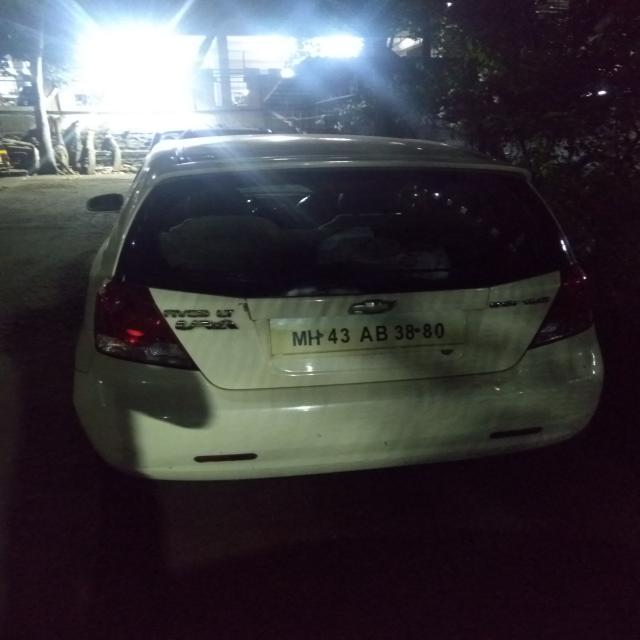Number-Plate: (284, 303, 455, 351)
